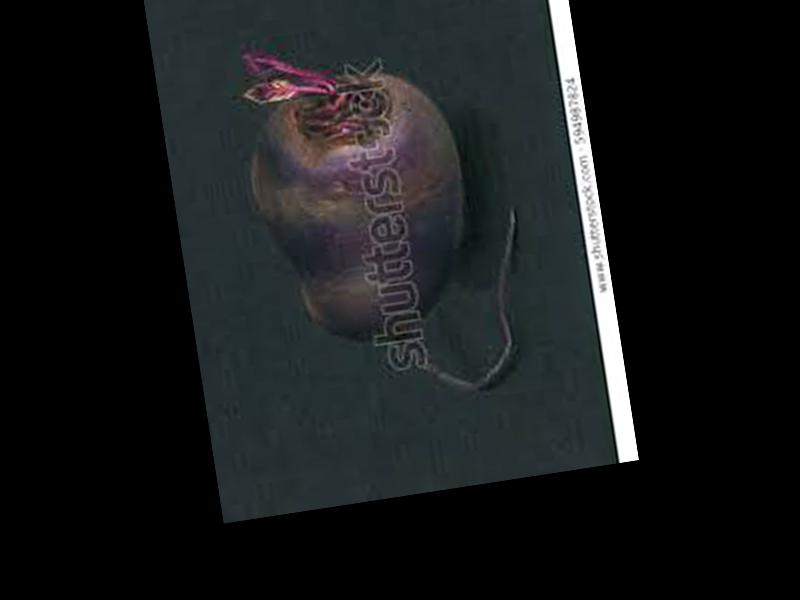Beet: (229, 8, 539, 417)
